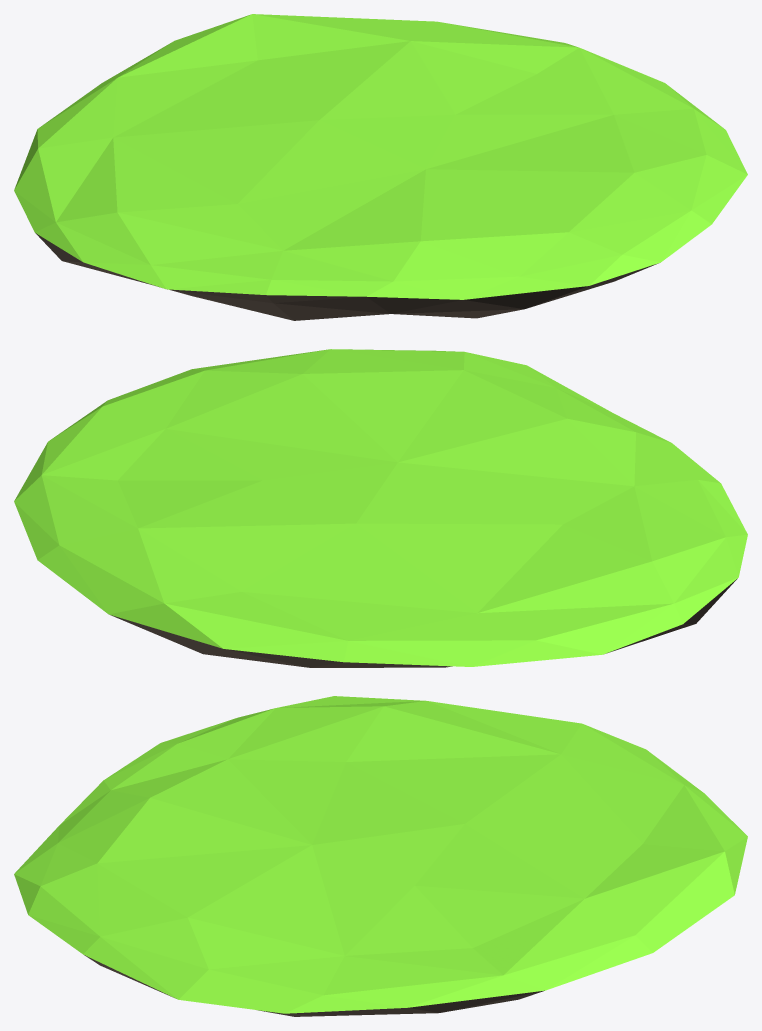
File: ground1.fbx
3 views of the same model, one above another, from view 1: azimuth 30°, elevation 25°; view 2: azimuth 150°, elevation 25°; view 3: azimuth 270°, elevation 25° (orthographic). The views are drawn at different scales.
Parts seen in each view (by area): view 1: ground1; view 2: ground1; view 3: ground1.
Boxes of the visible parts, x1=… form: ground1: x1=14, y1=14, x2=747, y2=320; ground1: x1=14, y1=349, x2=747, y2=667; ground1: x1=14, y1=696, x2=747, y2=1016.
Size of the model in its own units: 16.46 by 3.41 by 16.13.
